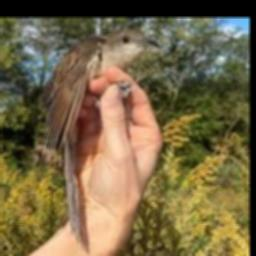Cuckoo: (40, 26, 159, 249)
